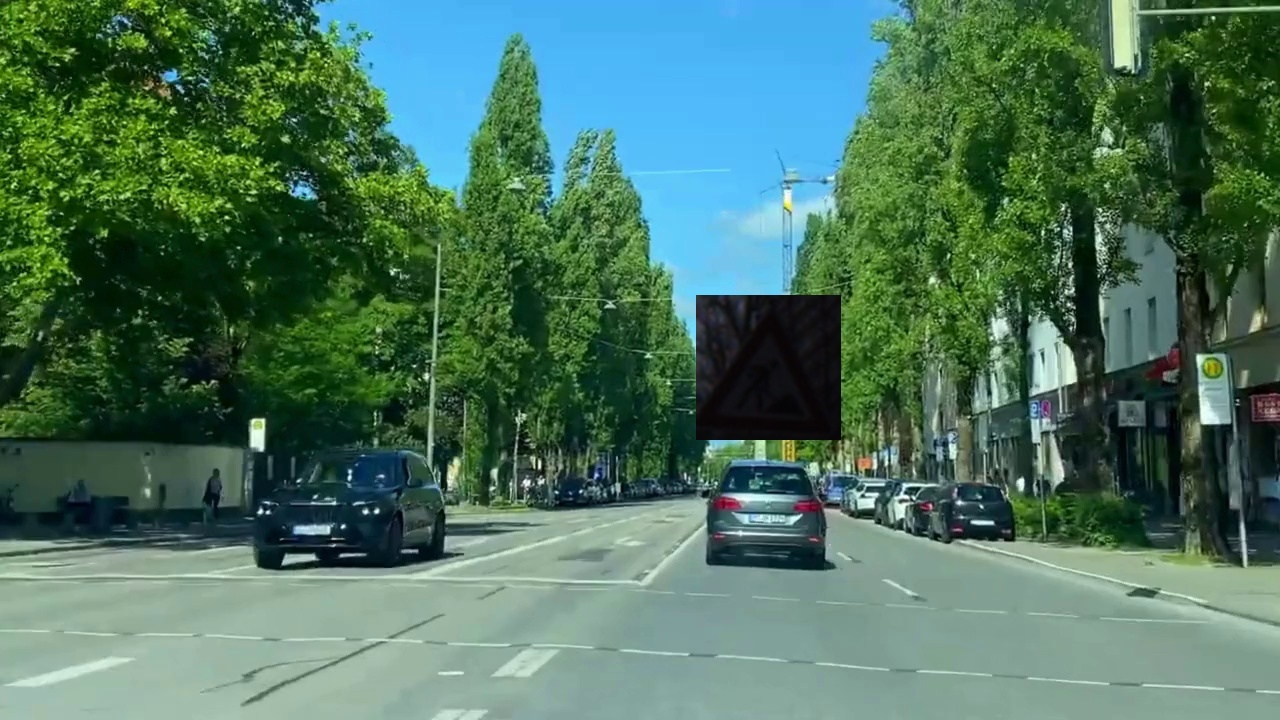Road work: (696, 295, 841, 440)
